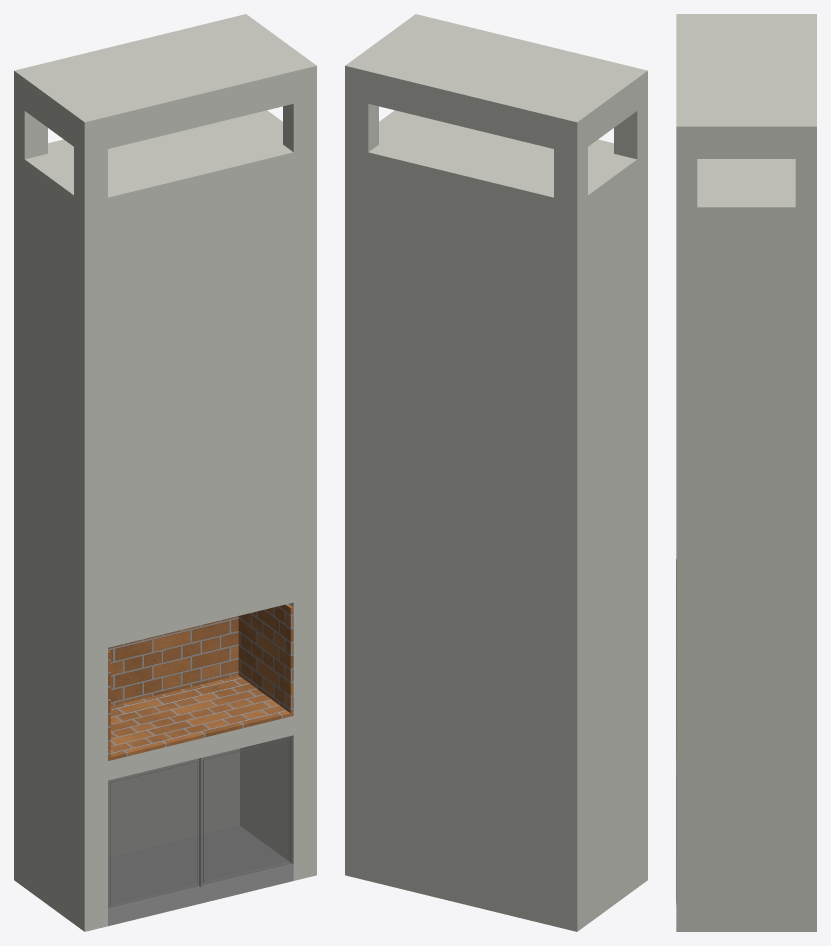
Rendered from AMENITIES_ASADOR.glb.
3 views of the same model, side by side, from view 1: azimuth 30°, elevation 25°; view 2: azimuth 150°, elevation 25°; view 3: azimuth 270°, elevation 25° (orthographic).
Visible parts, largest first — view 1: Diferencia, group_6, group_4, group_5; view 2: Diferencia; view 3: Diferencia.
Boxes of the visible parts, left/top/right/bottom form: Diferencia: left=14, top=14, right=316, bottom=931; group_6: left=108, top=735, right=293, bottom=909; group_4: left=108, top=604, right=293, bottom=760; group_5: left=108, top=826, right=293, bottom=926; Diferencia: left=345, top=14, right=647, bottom=931; Diferencia: left=676, top=14, right=816, bottom=931.
Bounding box in the file's own units: 1.5 × 5 × 0.7918.
5 materials, 1 textured.
